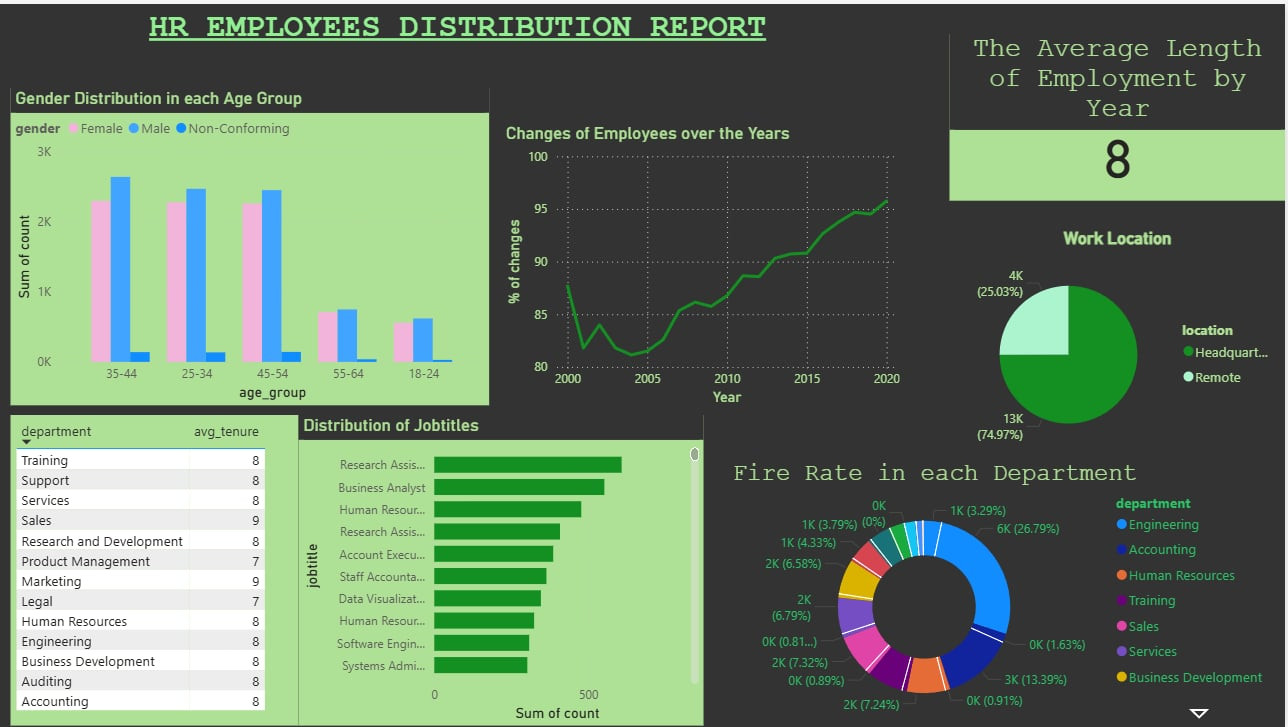

This screenshot's page, from the dashboard's own definition file:
{"tool":"powerbi","page":{"name":"Page 1","canvas":[1280,720],"ordinal":0},"visuals":[{"type":"textbox","box":[10.5,0,890.5,113.7],"z":0},{"type":"card","title":"The Average Length of Employment by Year","fields":{"Values":["Sum(avg_length_employment.avg_length_employment)"]},"box":[945.3,29.5,334.7,166.3],"z":1000},{"type":"clusteredColumnChart","title":"Gender Distribution in each Age Group","fields":{"Category":["age_distribution.age_group"],"Y":["Sum(age_distribution.count)"],"Series":["age_distribution.gender"]},"box":[10.5,83.7,476.9,315.8],"z":2000},{"type":"tableEx","fields":{"Values":["avg_tenure.department","avg_tenure.avg_tenure"]},"box":[10.5,409.9,286.5,309.5],"z":3000},{"type":"clusteredBarChart","title":"Distribution of Jobtitles","fields":{"Category":["jobtitle.jobtitle"],"Y":["Sum(jobtitle.count)"]},"box":[297,409.9,403.7,309.5],"z":4000},{"type":"pieChart","title":"Work Location","fields":{"Category":["location.location"],"Y":["Sum(location.count)"]},"box":[945.3,223.2,334.7,233.7],"z":5000},{"type":"lineChart","title":"Changes of Employees over the Years","fields":{"Category":["net_change_percent.year"],"Y":["Sum(net_change_percent.net_change_percent)"]},"box":[498.9,117.9,402.1,286.3],"z":6000},{"type":"donutChart","title":"Fire Rate in each Department","fields":{"Category":["Termination_Rate.department"],"Y":["Sum(Termination_Rate.terminated_count)","Sum(Termination_Rate.termination_rate)","Sum(Termination_Rate.total_count)"]},"box":[724.2,454.7,555.8,265.3],"z":6001}]}

Visuals, with their boxes in screenshot pixels (x1, y1, x2, y2), scaled from the page's 1280x720 canvas onto the 1288x727 screenshot:
textbox: Rect(11, 0, 907, 115)
"The Average Length of Employment by Year" card: Rect(951, 30, 1287, 198)
"Gender Distribution in each Age Group" clusteredColumnChart: Rect(11, 85, 490, 403)
tableEx - avg_tenure.department x avg_tenure.avg_tenure: Rect(11, 414, 299, 726)
"Distribution of Jobtitles" clusteredBarChart: Rect(299, 414, 705, 726)
"Work Location" pieChart: Rect(951, 225, 1287, 461)
"Changes of Employees over the Years" lineChart: Rect(502, 119, 907, 408)
"Fire Rate in each Department" donutChart: Rect(729, 459, 1287, 726)
